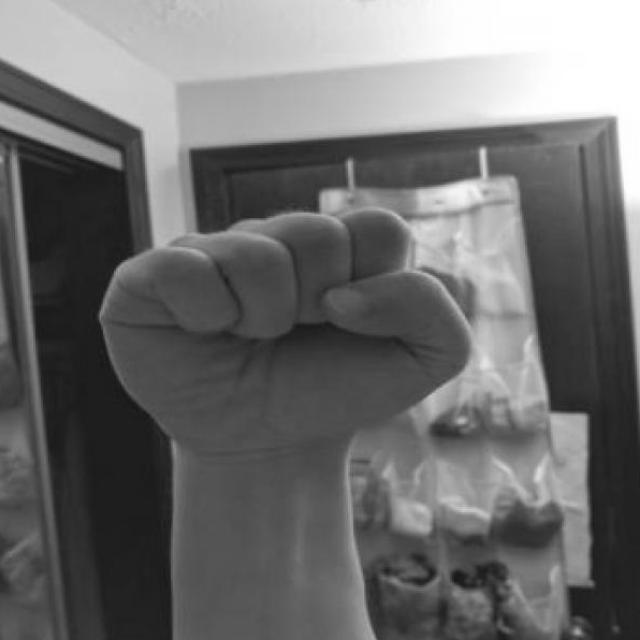S: (86, 200, 488, 551)
